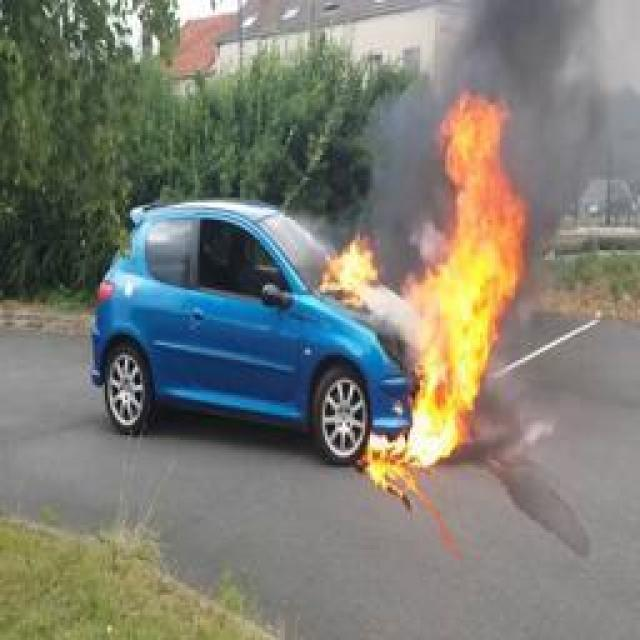Fire: (322, 86, 528, 466)
